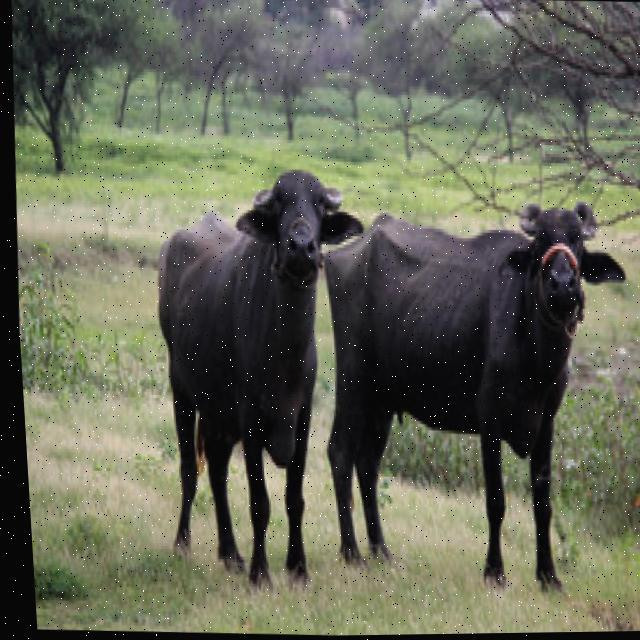Buffalo: (143, 159, 384, 587)
